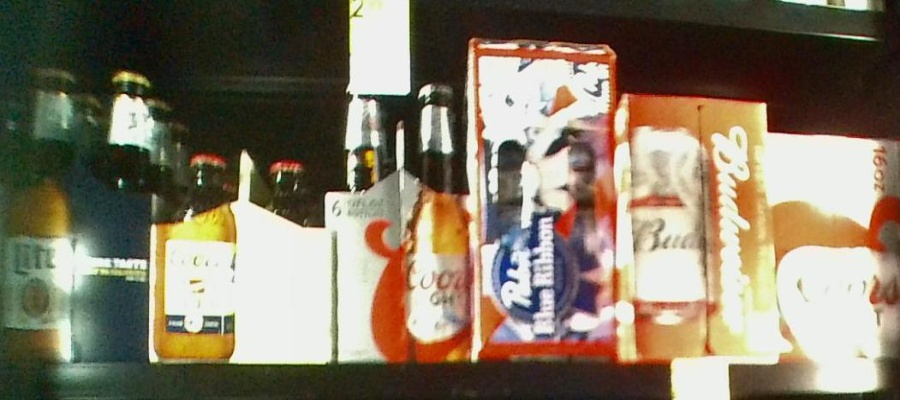bottle: (467, 39, 614, 362), (5, 67, 152, 360), (616, 90, 772, 364), (333, 74, 463, 365), (152, 152, 333, 359), (776, 133, 900, 356)
